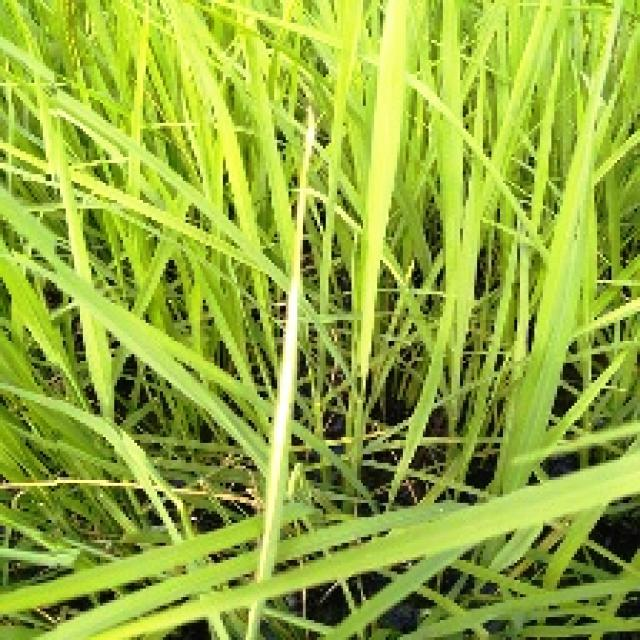unhealth: (244, 105, 310, 638)
